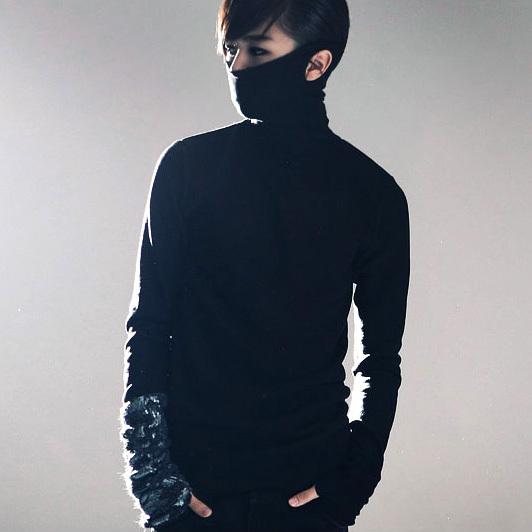face_mask: (225, 10, 302, 113)
